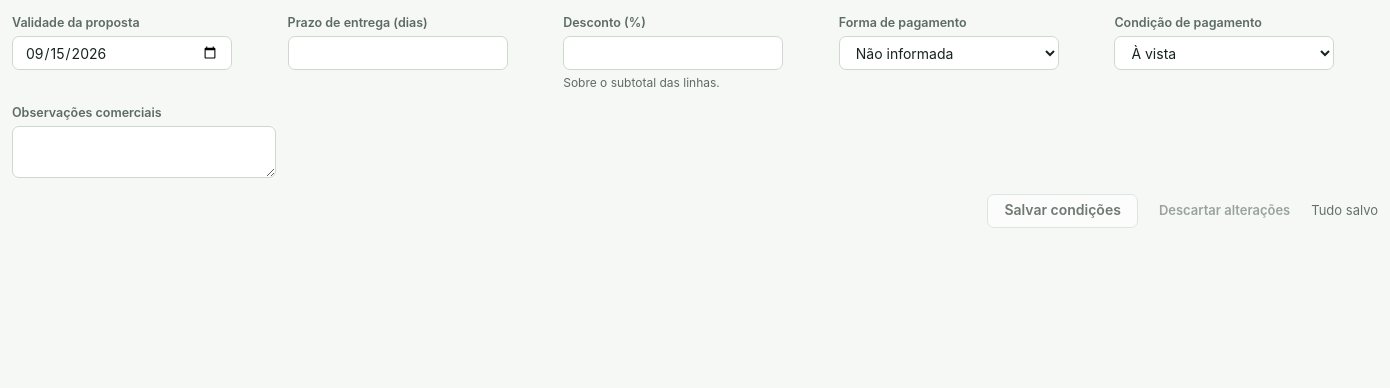
Test: QUOTE-DRAFT-STATE-01 — descartar e simular descrevem o rascunho › descartar volta ao gravado e leva a simulação junto
Type "10" into the field labelled "Desconto (%)" at (673, 53), box [563,36,783,70]
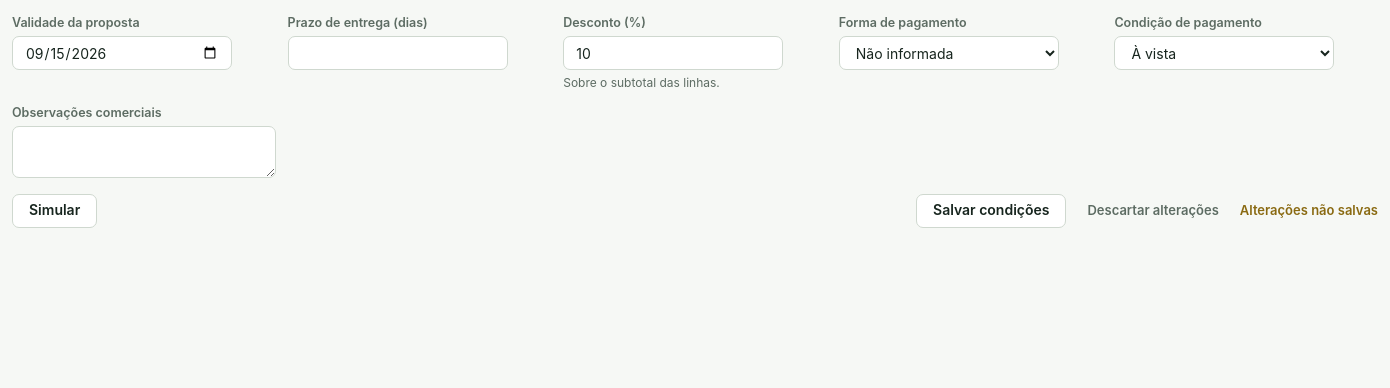
Click the button "Simular" at (55, 211), box [12,194,97,228]
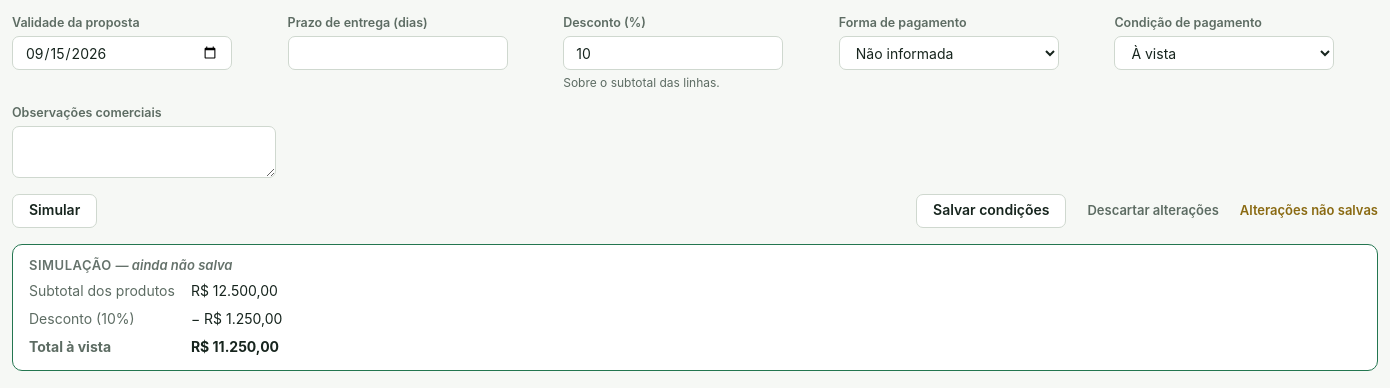
Now the text "— ainda não salva" is shown, box [116,257,232,273]
Click the button "Descartar alterações" at (1153, 211), box [1074,197,1232,225]
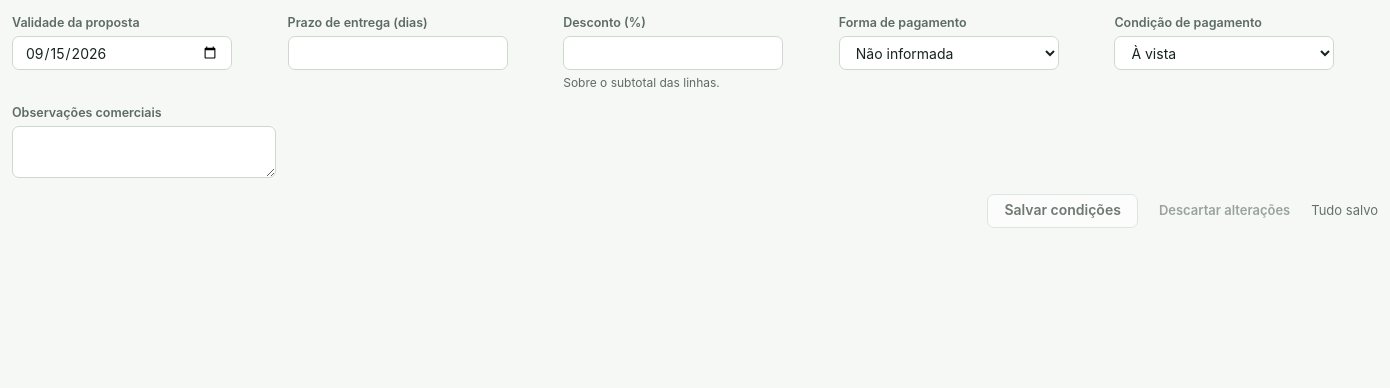
Now the field labelled "Desconto (%)" is empty, box [563,36,783,70]
Now the text "— ainda não salva" is gone
Now the message reads "Tudo salvo", box [1311,202,1378,218]
